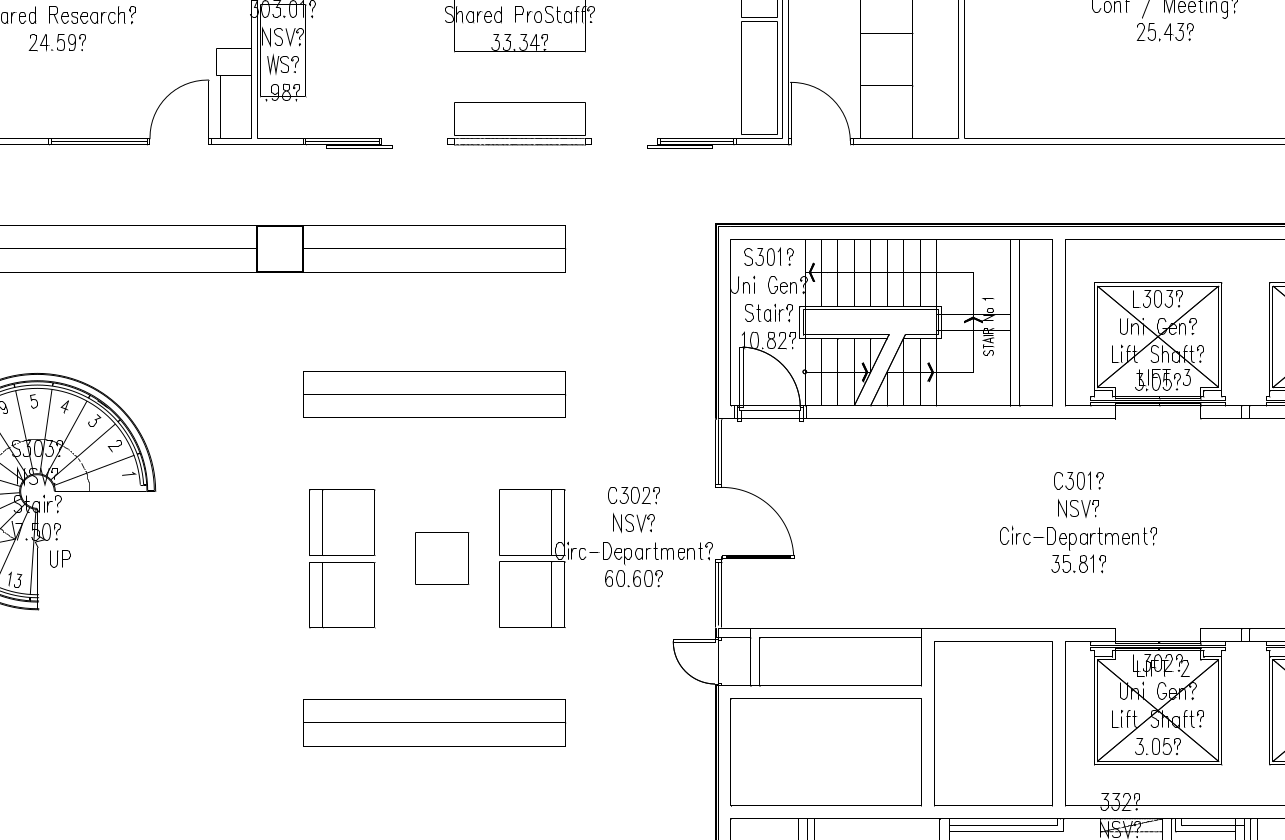door: (722, 478, 801, 567), (145, 75, 211, 149), (787, 76, 853, 150), (736, 343, 802, 417), (659, 632, 714, 688)
